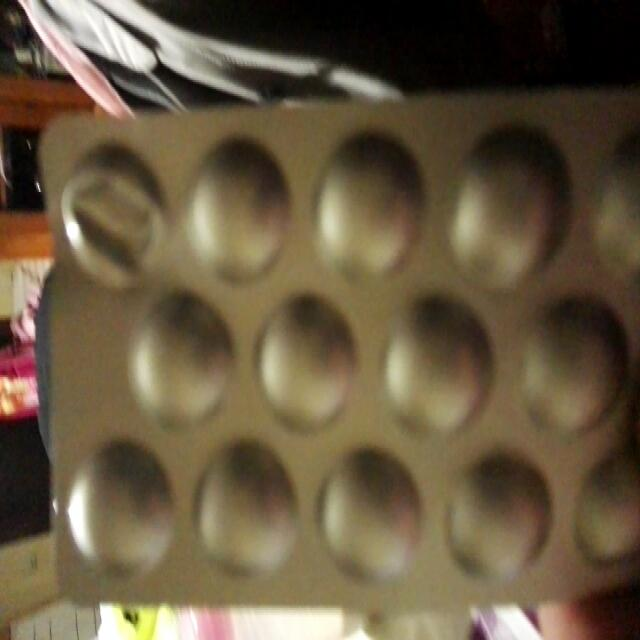Empty: (57, 140, 167, 292)
Pill: (447, 139, 580, 281), (377, 297, 501, 446), (313, 130, 434, 279), (432, 448, 556, 585), (70, 438, 178, 590), (516, 301, 632, 439), (189, 444, 301, 582), (119, 294, 238, 422), (254, 290, 363, 428), (318, 442, 426, 580), (183, 142, 294, 274), (563, 446, 640, 576)
